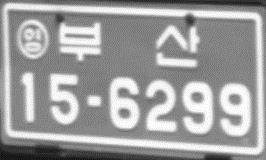-: (83, 91, 104, 110)
1: (16, 70, 41, 125)
2: (144, 79, 180, 134)
5: (46, 71, 79, 125)
6: (108, 75, 140, 131)
9: (217, 81, 254, 137), (180, 80, 215, 135)
부산_D: (56, 19, 201, 68)
영: (16, 18, 50, 61)
